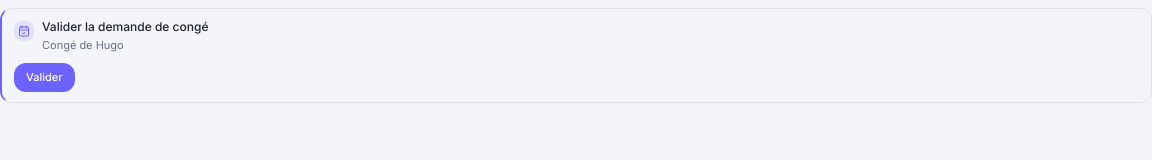
Scenario: MarkdownText — action cards › renders a confirmable action and calls the right API on confirm
Expected: the text "Congé de Hugo" is shown, [42, 38, 124, 52]
Click the button "Valider" at (44, 77), box [14, 63, 74, 92]
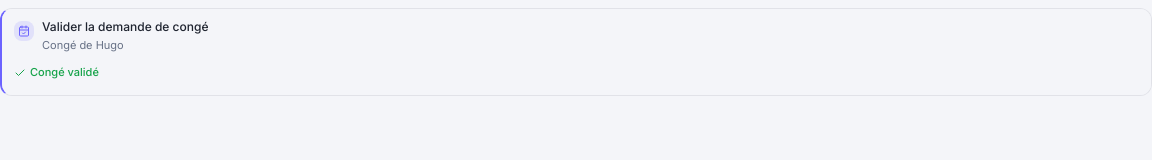
Result: the text "Congé validé" is shown at [14, 64, 99, 81]
